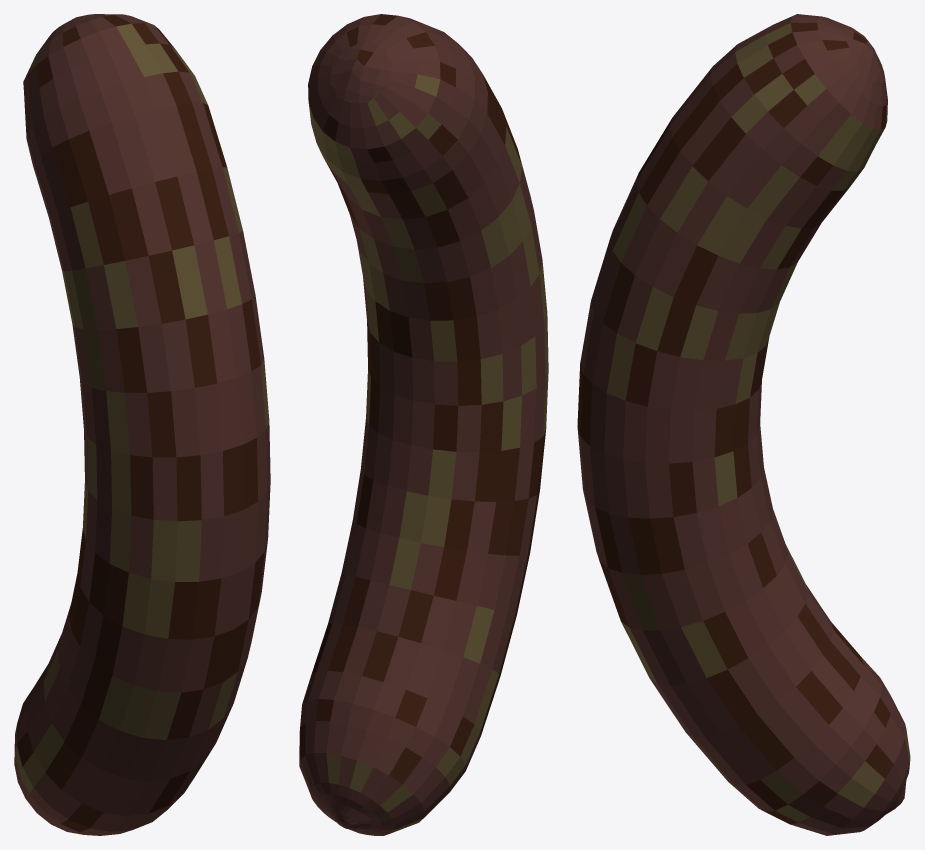
File: paintbrush_sausage.glb
3 views of the same model, side by side, from view 1: azimuth 30°, elevation 25°; view 2: azimuth 150°, elevation 25°; view 3: azimuth 270°, elevation 25° (orthographic). The views are drawn at different scales.
Parts seen in each view (by area): view 1: paintbrush_sausage; view 2: paintbrush_sausage; view 3: paintbrush_sausage.
Boxes of the visible parts, x1=… form: paintbrush_sausage: x1=14, y1=14, x2=270, y2=835; paintbrush_sausage: x1=299, y1=14, x2=548, y2=835; paintbrush_sausage: x1=577, y1=14, x2=910, y2=835.
Bounding box in the file's own units: 0.0885 × 0.4301 × 0.1612.
